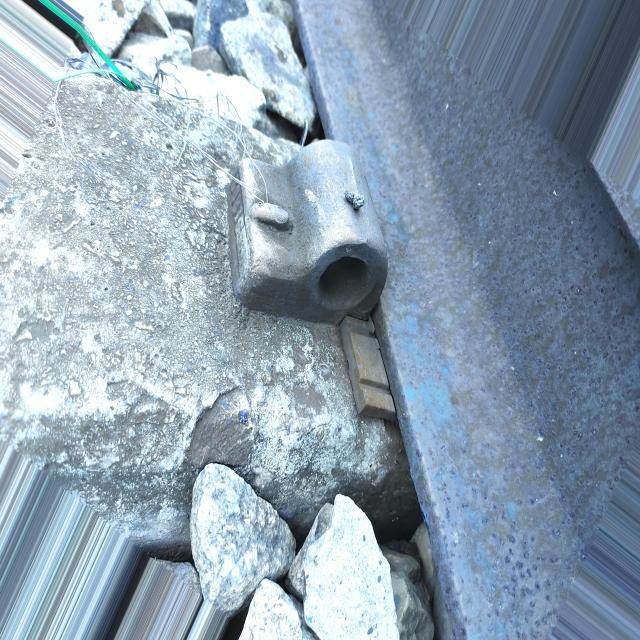Missing Fastener: (198, 125, 418, 326)
